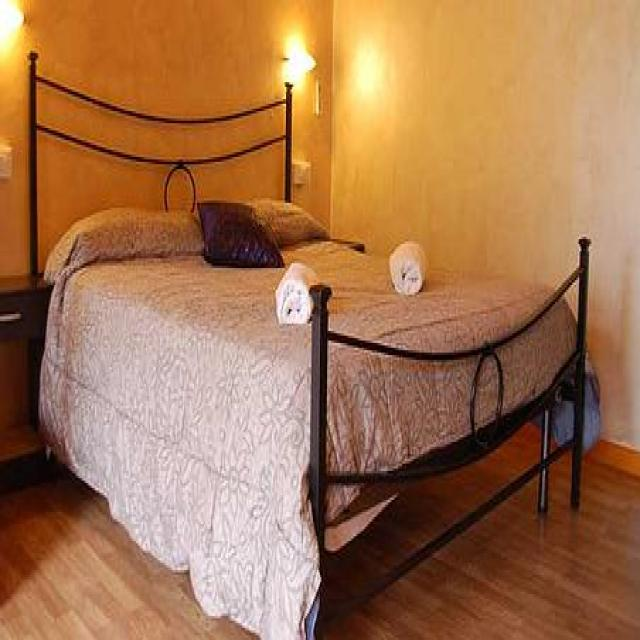bed: (25, 48, 592, 638)
